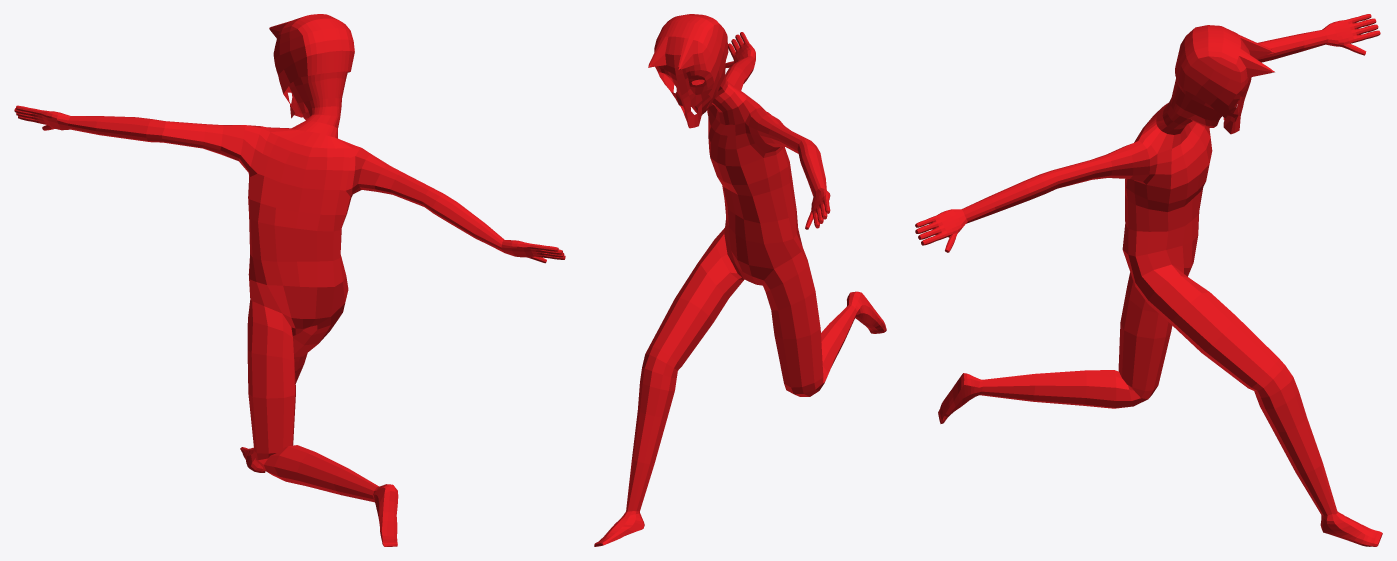
The model's file is saltoadelanteE_000118.obj.
3 renders of one model, left to right at view 1: azimuth 30°, elevation 25°; view 2: azimuth 150°, elevation 25°; view 3: azimuth 270°, elevation 25°, orthographic. The views are drawn at different scales.
Visible parts, largest first — view 1: Plane.002_Plane.001; view 2: Plane.002_Plane.001; view 3: Plane.002_Plane.001.
Part boxes in pixels (x1,y1,x2,y2): Plane.002_Plane.001: (14,14,565,546); Plane.002_Plane.001: (594,14,886,546); Plane.002_Plane.001: (915,14,1382,546).
Size of the model in its own units: 4.26 by 6.22 by 5.21.
